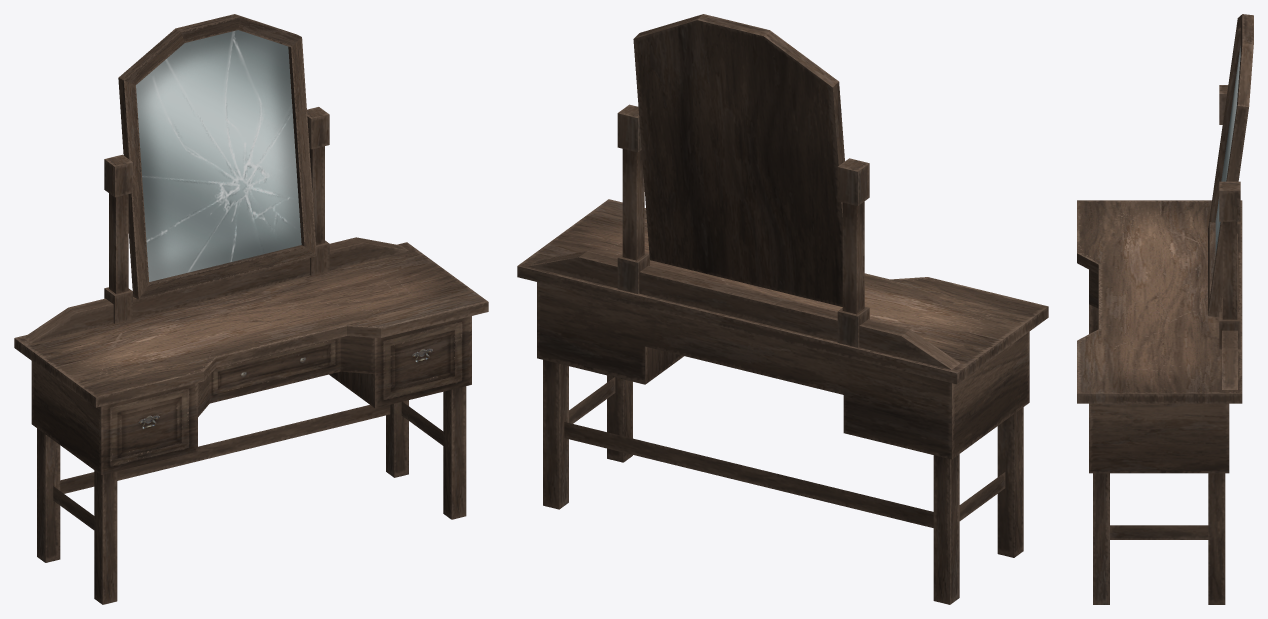
The model's file is Mirror.Desk.fbx.
The picture shows the model from 3 angles, left to right: view 1: azimuth 30°, elevation 25°; view 2: azimuth 150°, elevation 25°; view 3: azimuth 270°, elevation 25°; orthographic projection. The views are drawn at different scales.
Visible parts, largest first — view 1: Mirror.Desk; view 2: Mirror.Desk; view 3: Mirror.Desk.
Boxes of the visible parts, bbox=[...] form: Mirror.Desk: bbox=[14, 14, 488, 604]; Mirror.Desk: bbox=[517, 14, 1048, 604]; Mirror.Desk: bbox=[1077, 14, 1253, 604].
Size of the model in its own units: 148 by 174 by 57.12.
